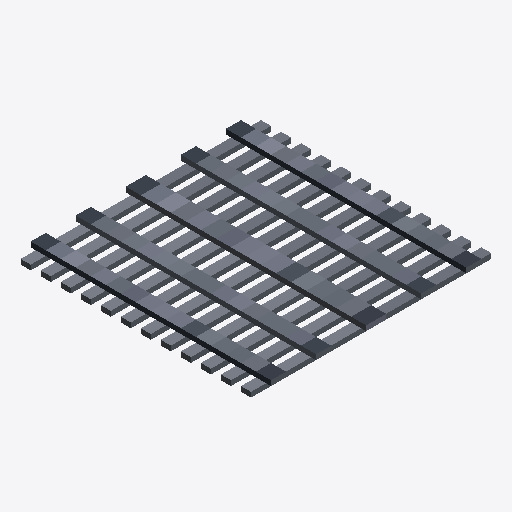
A Minecraft block model of 17 cuboids, rendered isometrically (azimuth 45°, elevation 35.3°) with the resource pack's own textures.
Visible parts, largest first — rail bottom (×11), Center Track, inner track left, inner track right, outer track right, outer track left, reail bottom.
Part boxes in pixels (left/top/right/bottom): rail bottom (×11): left=21, top=120, right=490, bottom=396; Center Track: left=126, top=175, right=385, bottom=330; inner track left: left=76, top=207, right=330, bottom=359; inner track right: left=181, top=146, right=435, bottom=298; outer track right: left=226, top=120, right=480, bottom=272; outer track left: left=31, top=233, right=285, bottom=385; reail bottom: left=181, top=213, right=430, bottom=362.
Size of the model in its own units: 48 by 2 by 48.